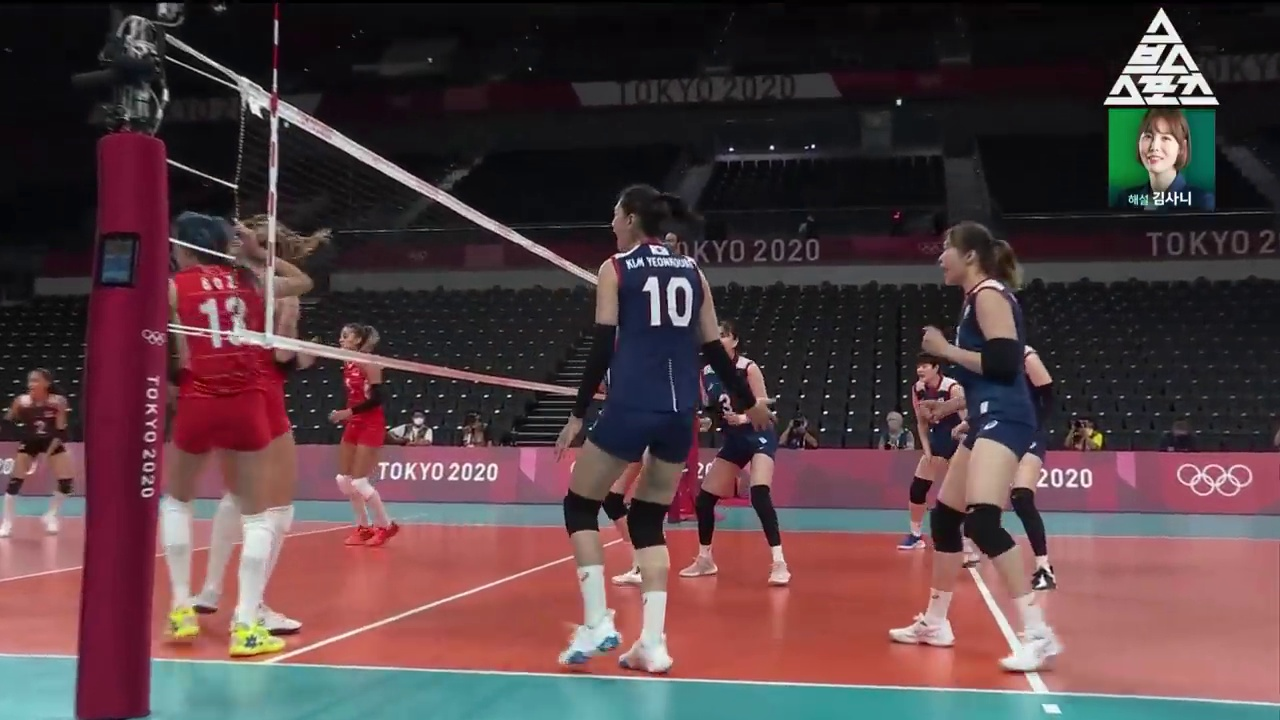player: (555, 187, 778, 673), (889, 224, 1061, 672), (681, 320, 791, 585), (897, 353, 1002, 550)
player 1: (162, 214, 313, 655), (216, 173, 340, 656), (331, 326, 403, 546), (0, 370, 75, 538)
